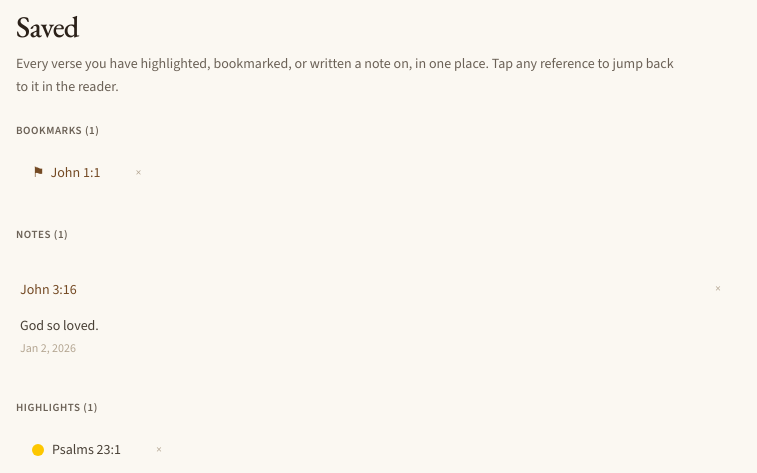
Test case: /library/notes — every saved row can be removed › is a two-step arm: the first tap sends nothing and relabels to a confirm
Step 1. Click the button named "Remove note on John 3:16" → (718, 290), box x1=696 y1=268 x2=740 y2=312
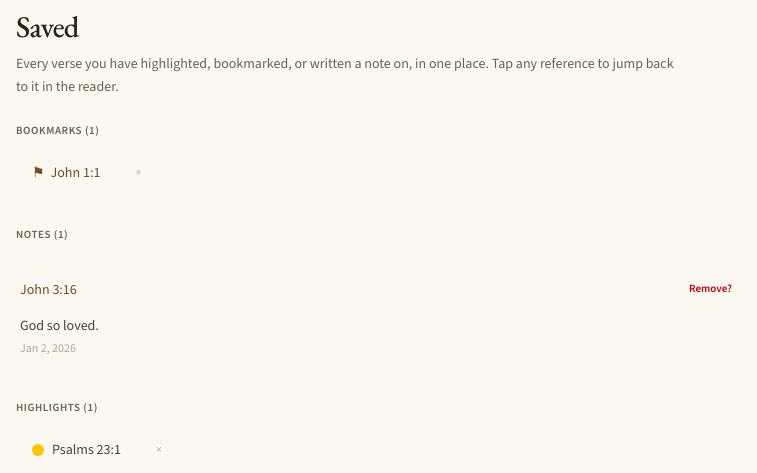
Expected: the text "God so loved." is shown, x1=20 y1=316 x2=99 y2=334
Expected: the button with aria-label "Confirm remove: note on John 3:16" is shown, x1=681 y1=268 x2=740 y2=312
